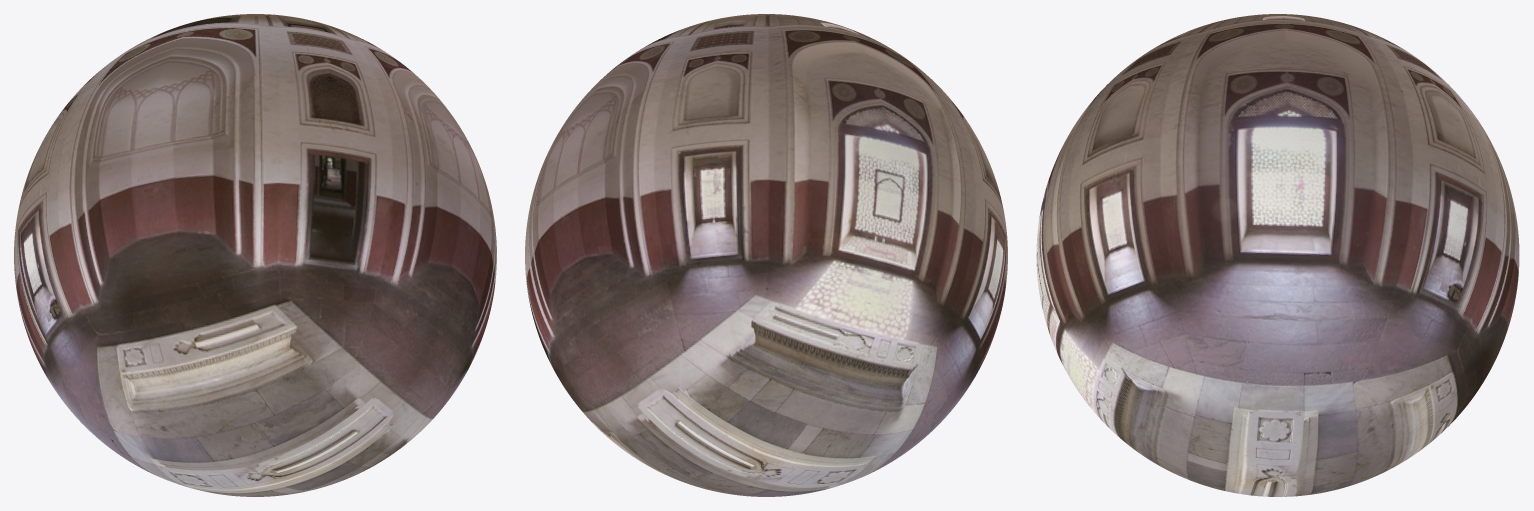
File: humayun.glb
The picture shows the model from 3 angles, left to right: view 1: azimuth 30°, elevation 25°; view 2: azimuth 150°, elevation 25°; view 3: azimuth 270°, elevation 25°; orthographic projection.
Parts seen in each view (by area): view 1: Object_2; view 2: Object_2; view 3: Object_2.
Part boxes in pixels (<box>): Object_2: <box>14,14,496,496</box>; Object_2: <box>525,14,1007,496</box>; Object_2: <box>1036,14,1519,496</box>.
Bounding box in the file's own units: 88.66 × 88.66 × 88.66.
Materials: 1 (1 with a texture image).
